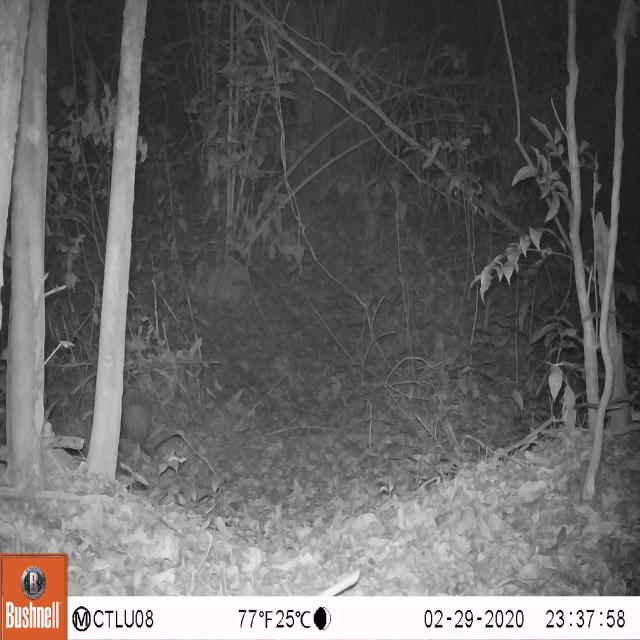Armadillo: (110, 382, 197, 466)
